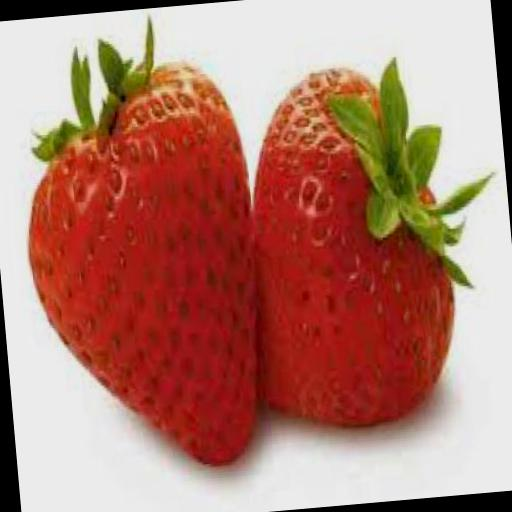biodegradable: (7, 4, 273, 481), (229, 46, 512, 436)
